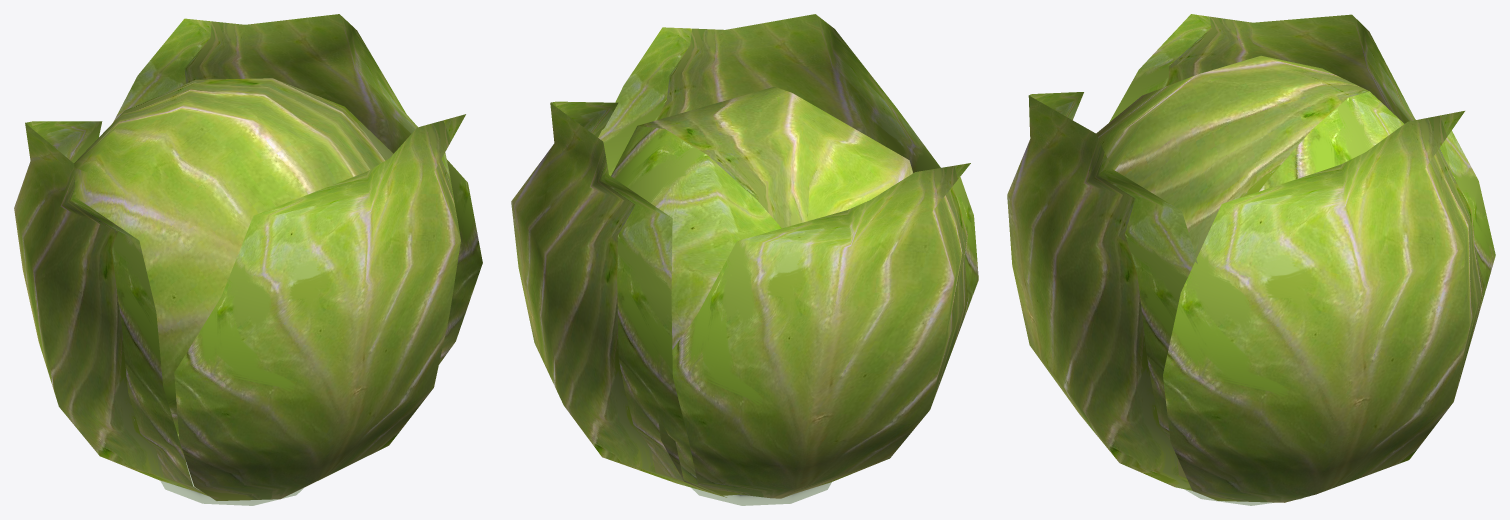
File: Cabbage.fbx
The picture shows the model from 3 angles, left to right: view 1: azimuth 30°, elevation 25°; view 2: azimuth 150°, elevation 25°; view 3: azimuth 270°, elevation 25°; orthographic projection. The views are drawn at different scales.
Parts seen in each view (by area): view 1: polySurface8; view 2: polySurface8; view 3: polySurface8.
Part boxes in pixels (x1,y1,x2,y2): polySurface8: (14,14,482,505); polySurface8: (511,14,978,505); polySurface8: (1007,14,1495,505).
Size of the model in its own units: 6.32 by 5.65 by 6.27.
Materials: 2 (1 with a texture image).
